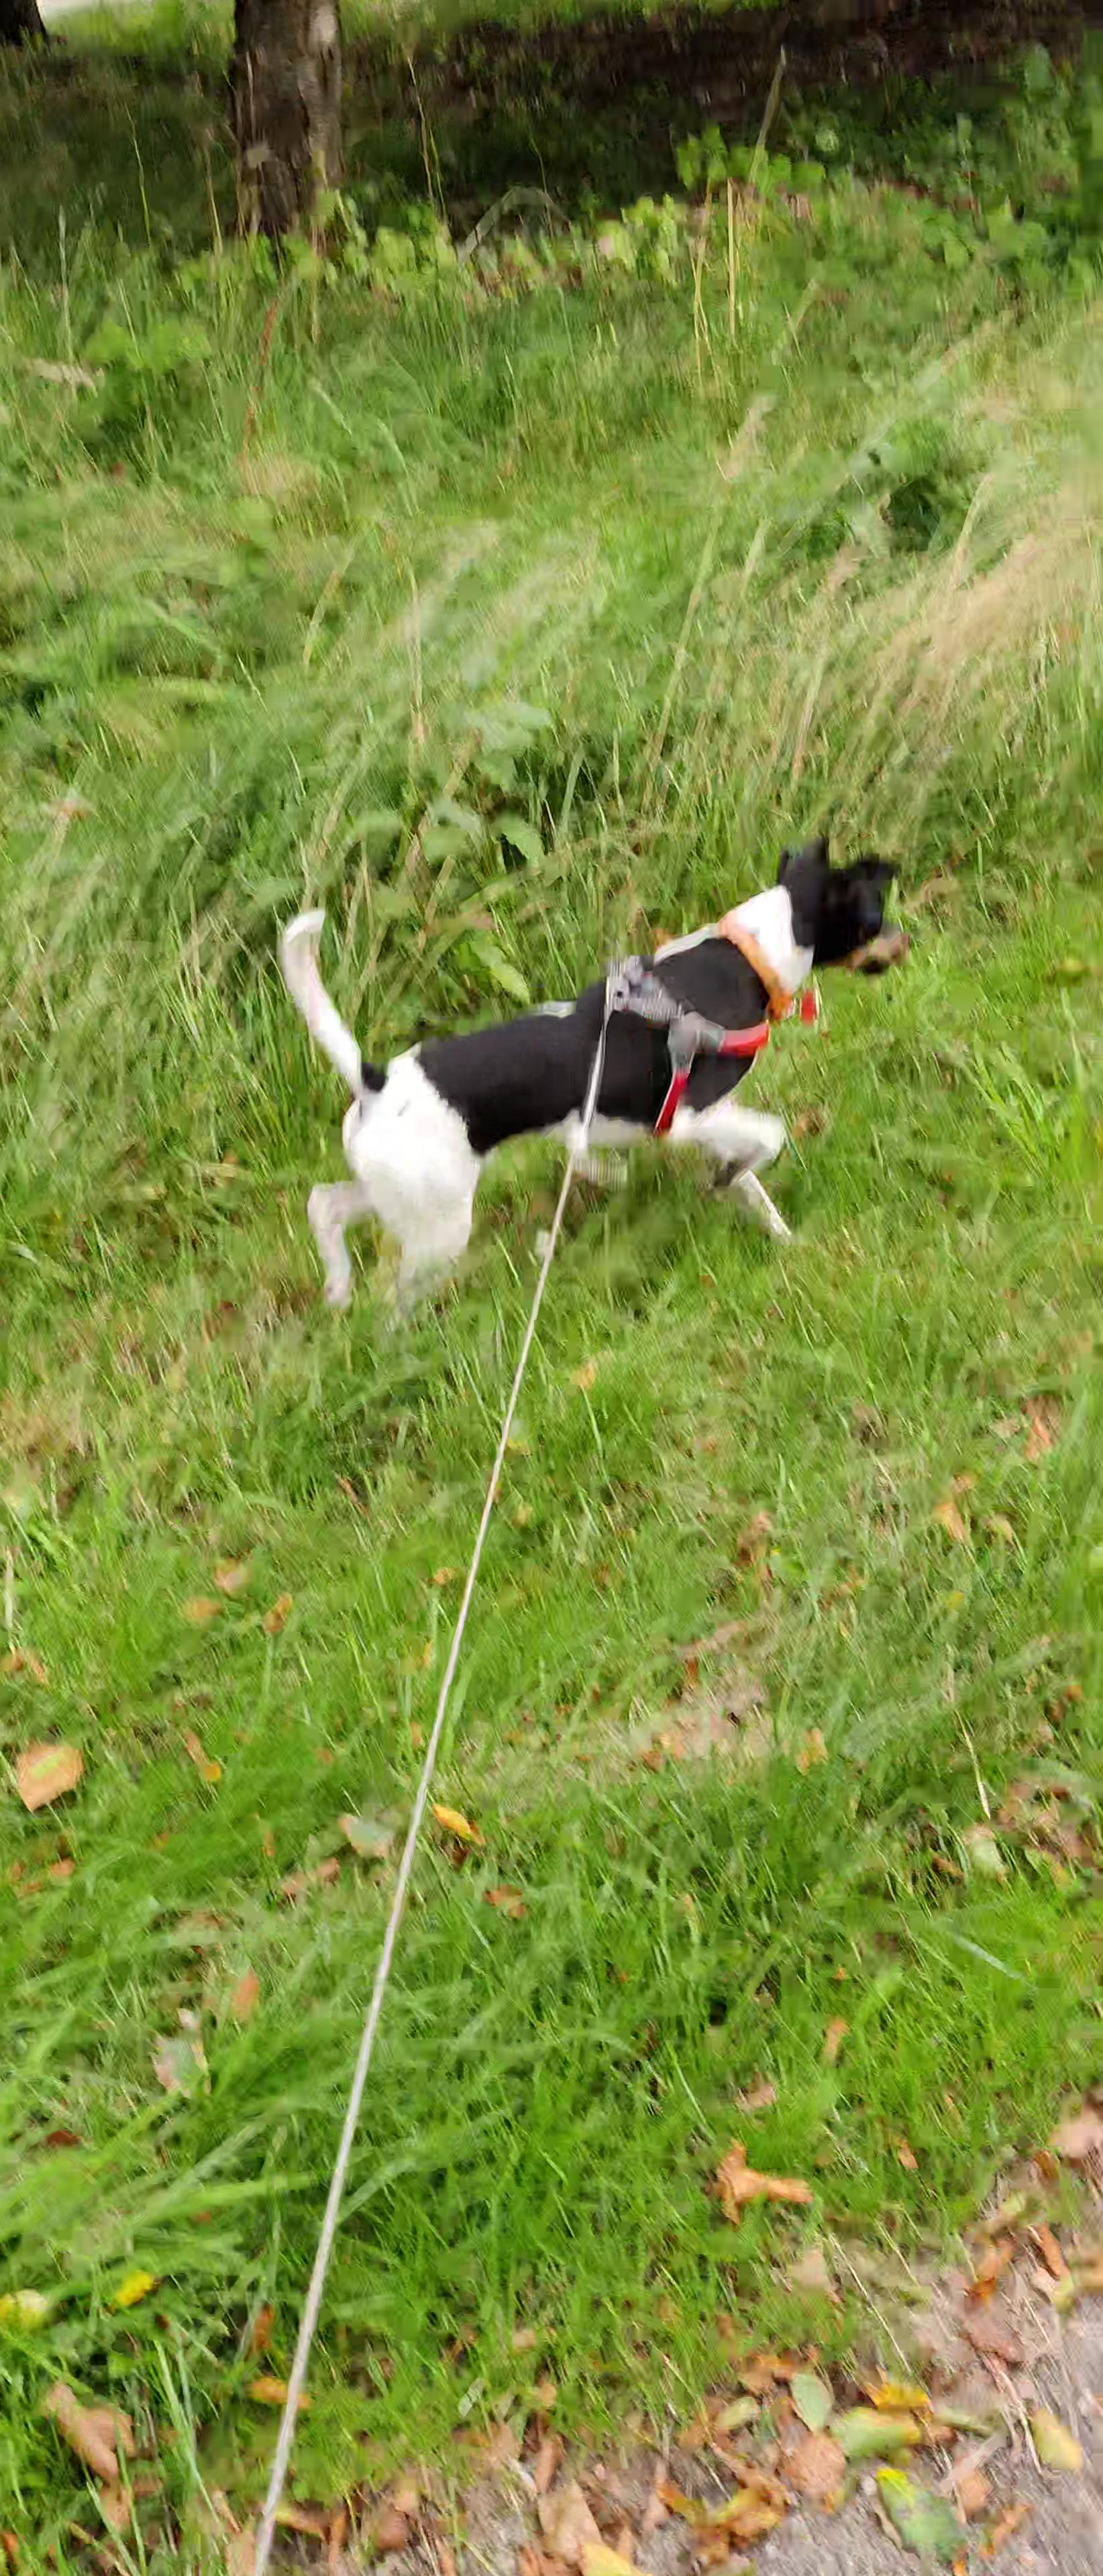Dog: (252, 823, 922, 1321)
